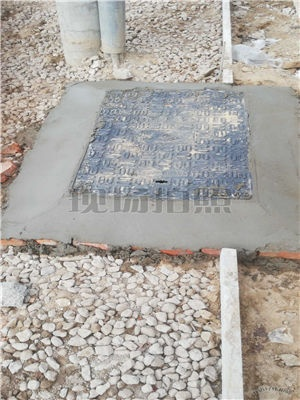good: (65, 85, 259, 205)
